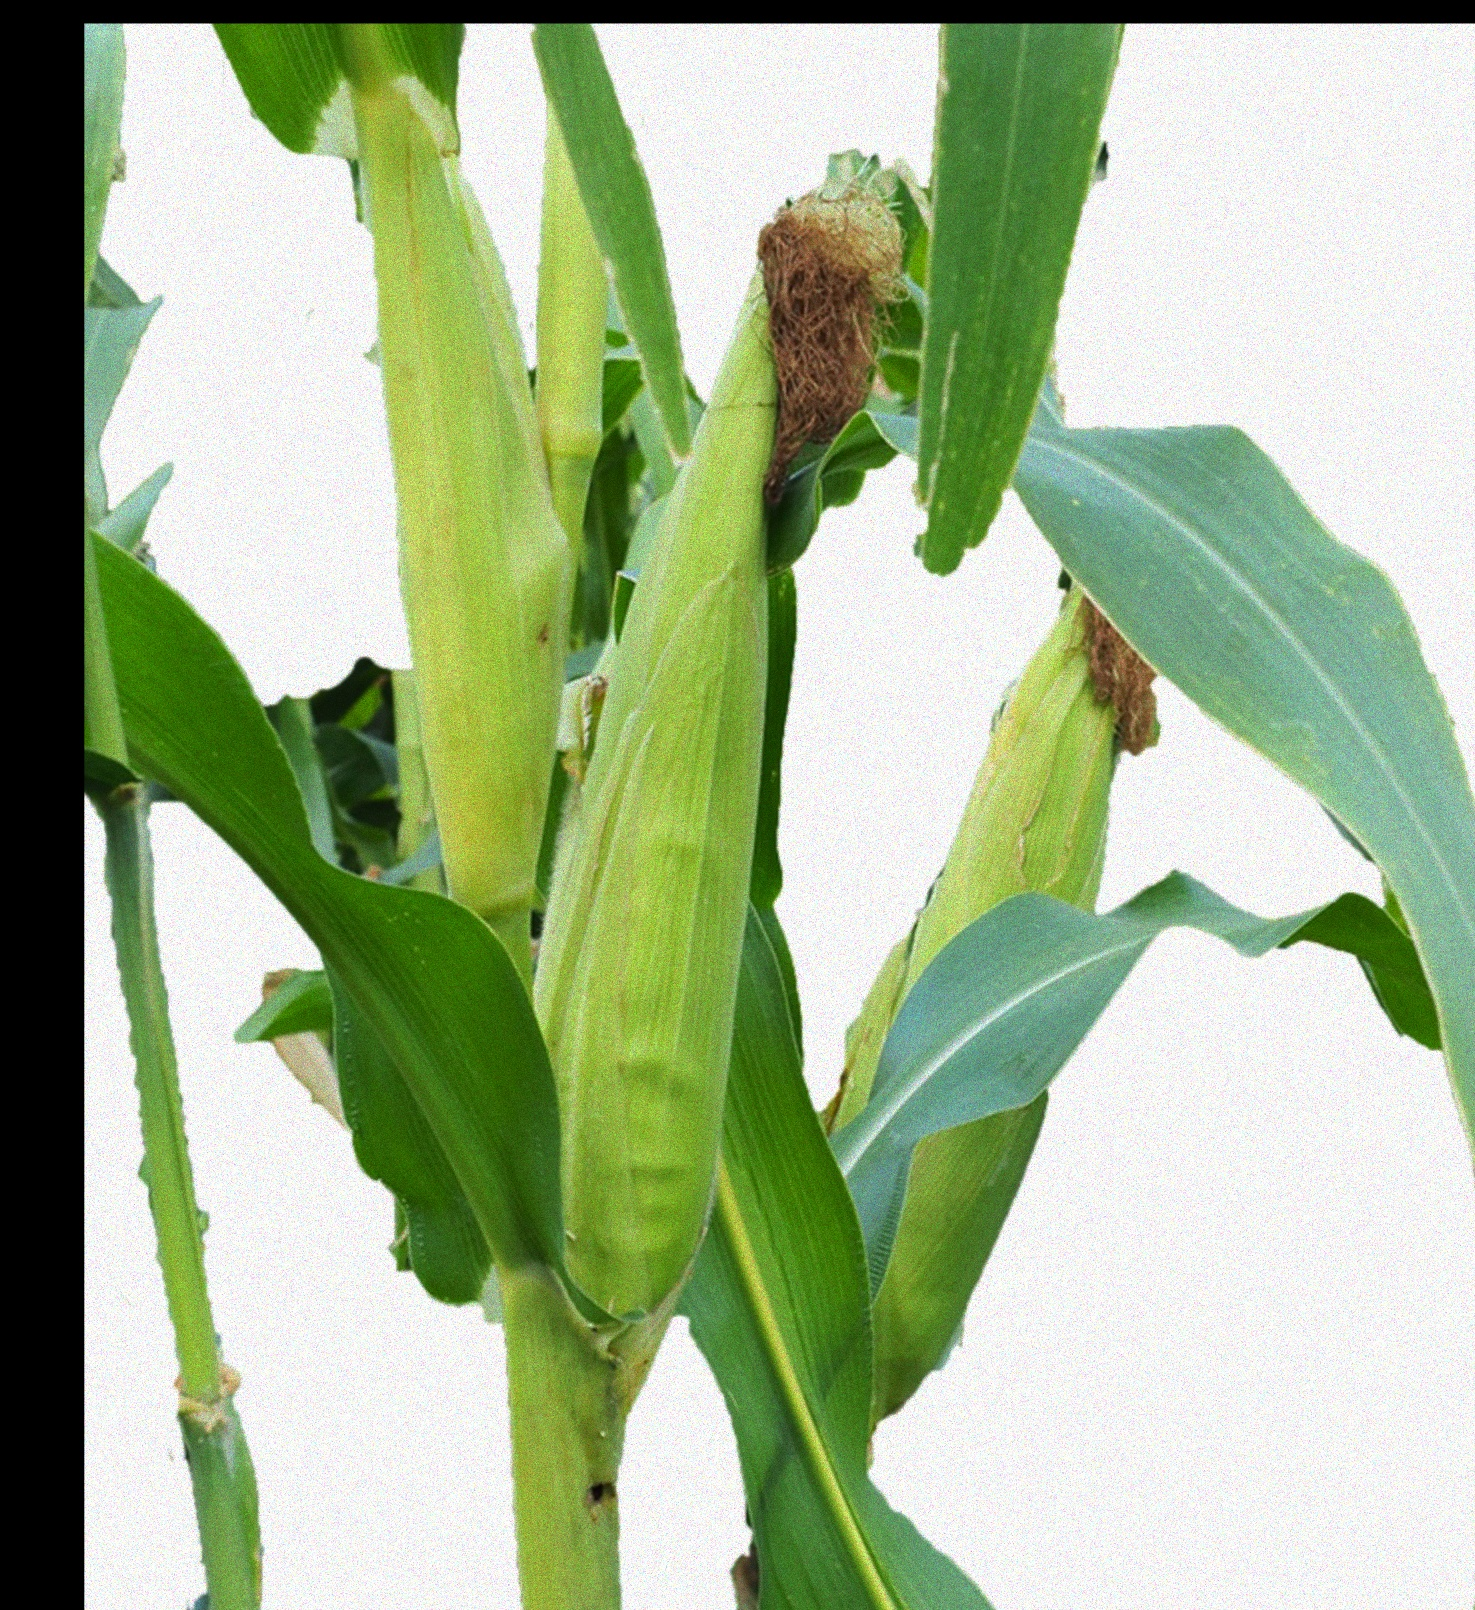corn_plant: (794, 457, 1225, 1492), (520, 158, 864, 1453), (306, 49, 561, 1290)
